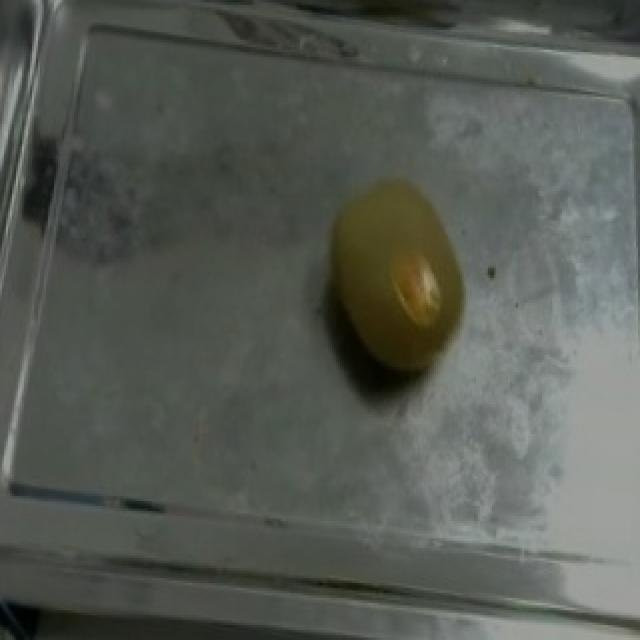Fruit: (302, 162, 484, 394)
